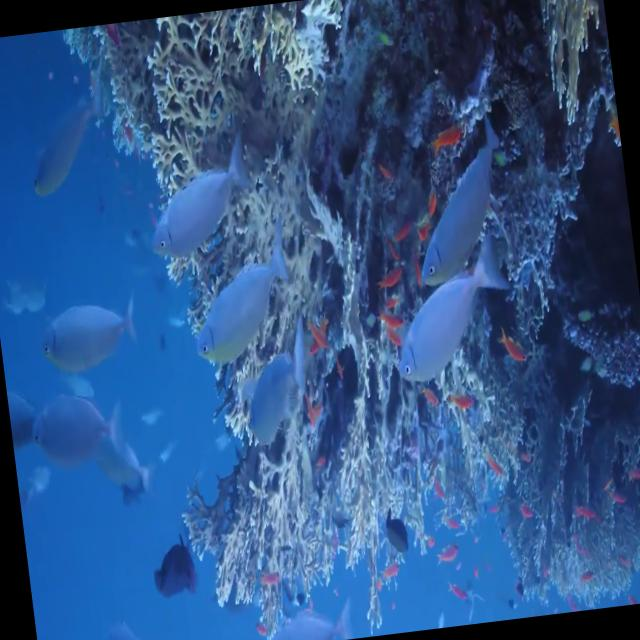fish: (395, 109, 529, 295), (382, 226, 524, 394), (10, 34, 122, 212), (177, 226, 306, 380), (135, 126, 261, 279), (225, 318, 322, 454), (28, 378, 137, 486), (34, 288, 146, 389), (144, 528, 208, 615), (368, 495, 418, 565), (93, 607, 168, 640), (490, 322, 532, 376), (476, 442, 509, 491), (444, 382, 484, 420), (432, 538, 464, 574), (566, 496, 598, 528)
